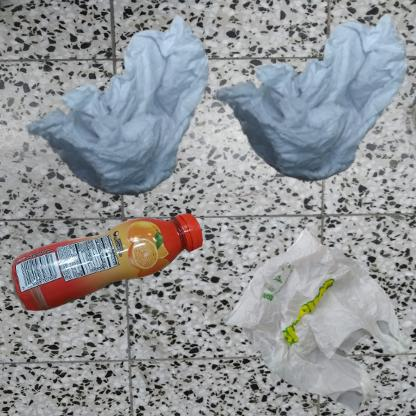bolsa: (213, 213, 416, 416)
botella: (10, 213, 203, 311)
papel: (10, 10, 239, 220), (213, 10, 409, 184)
